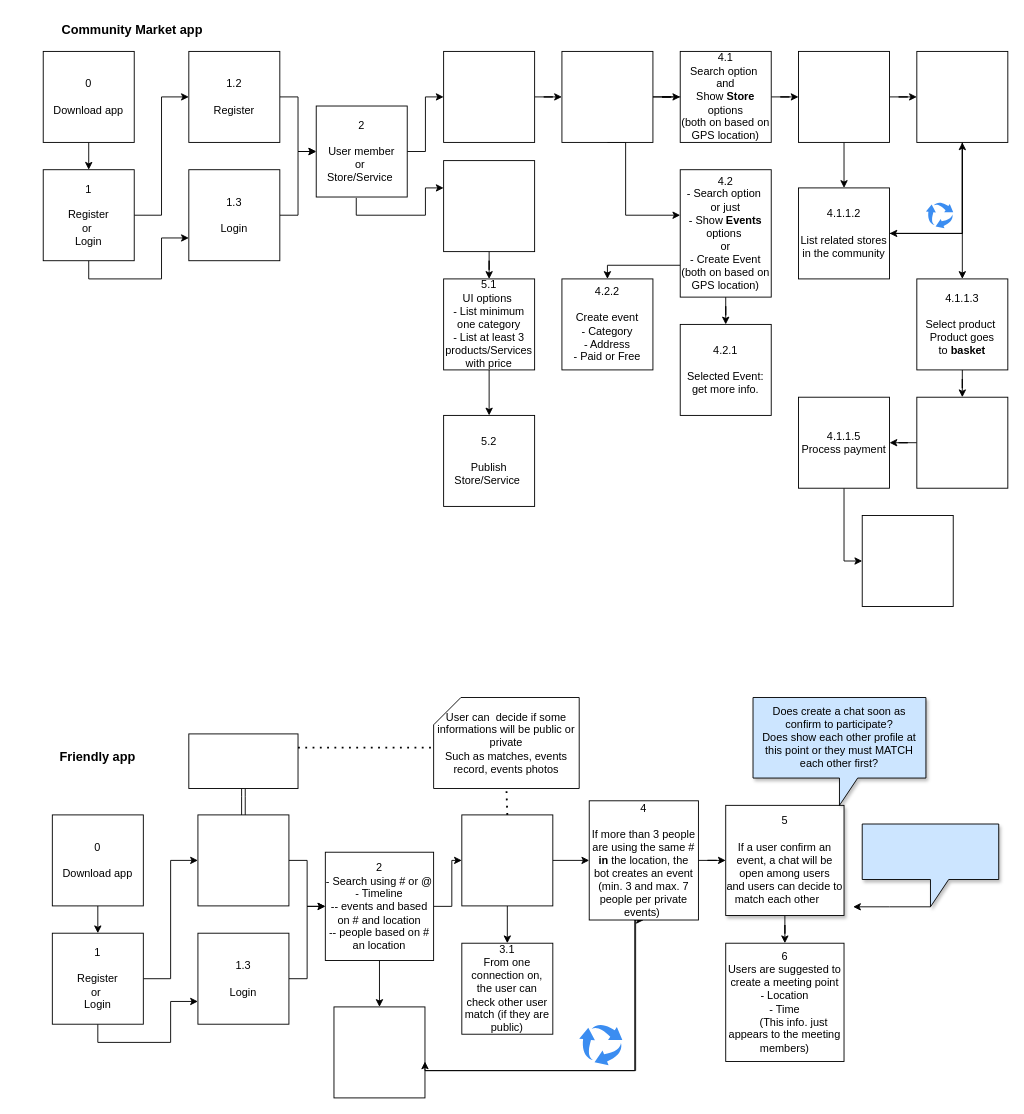
Some shapes in this 1024 by 1114 pixel diagram are drawn without their labels. The shapes that lost their labels are listed below. From the top down, each one's centre as x and y in pixels, then its label:
(489,96): 3 Activate GPS
(607,96): 4 Store or Events
(844,96): 4.1.1 Filter search by Store or product
(962,96): 4.1.1.1 List product options in the community stores
(489,206): 5 Register your Store/service - One front entrance photo - Address with zip code
(962,442): 4.1.1.4 Select product(s) and For delivery or collection
(907,561): 4.1.1.6 Receives receipt with purchase info.
(243,761): User Profile can be accessed any time for changes
(243,860): 1.2 Register - 6 #hastags - GPS
(507,860): 3 @people can be invited to match each other #hashtag will match events
(931,866): Should the Bot create a deadline at this point? No allowing more participants
(379,1052): 2.1 User can engage to events (just first name shown)
